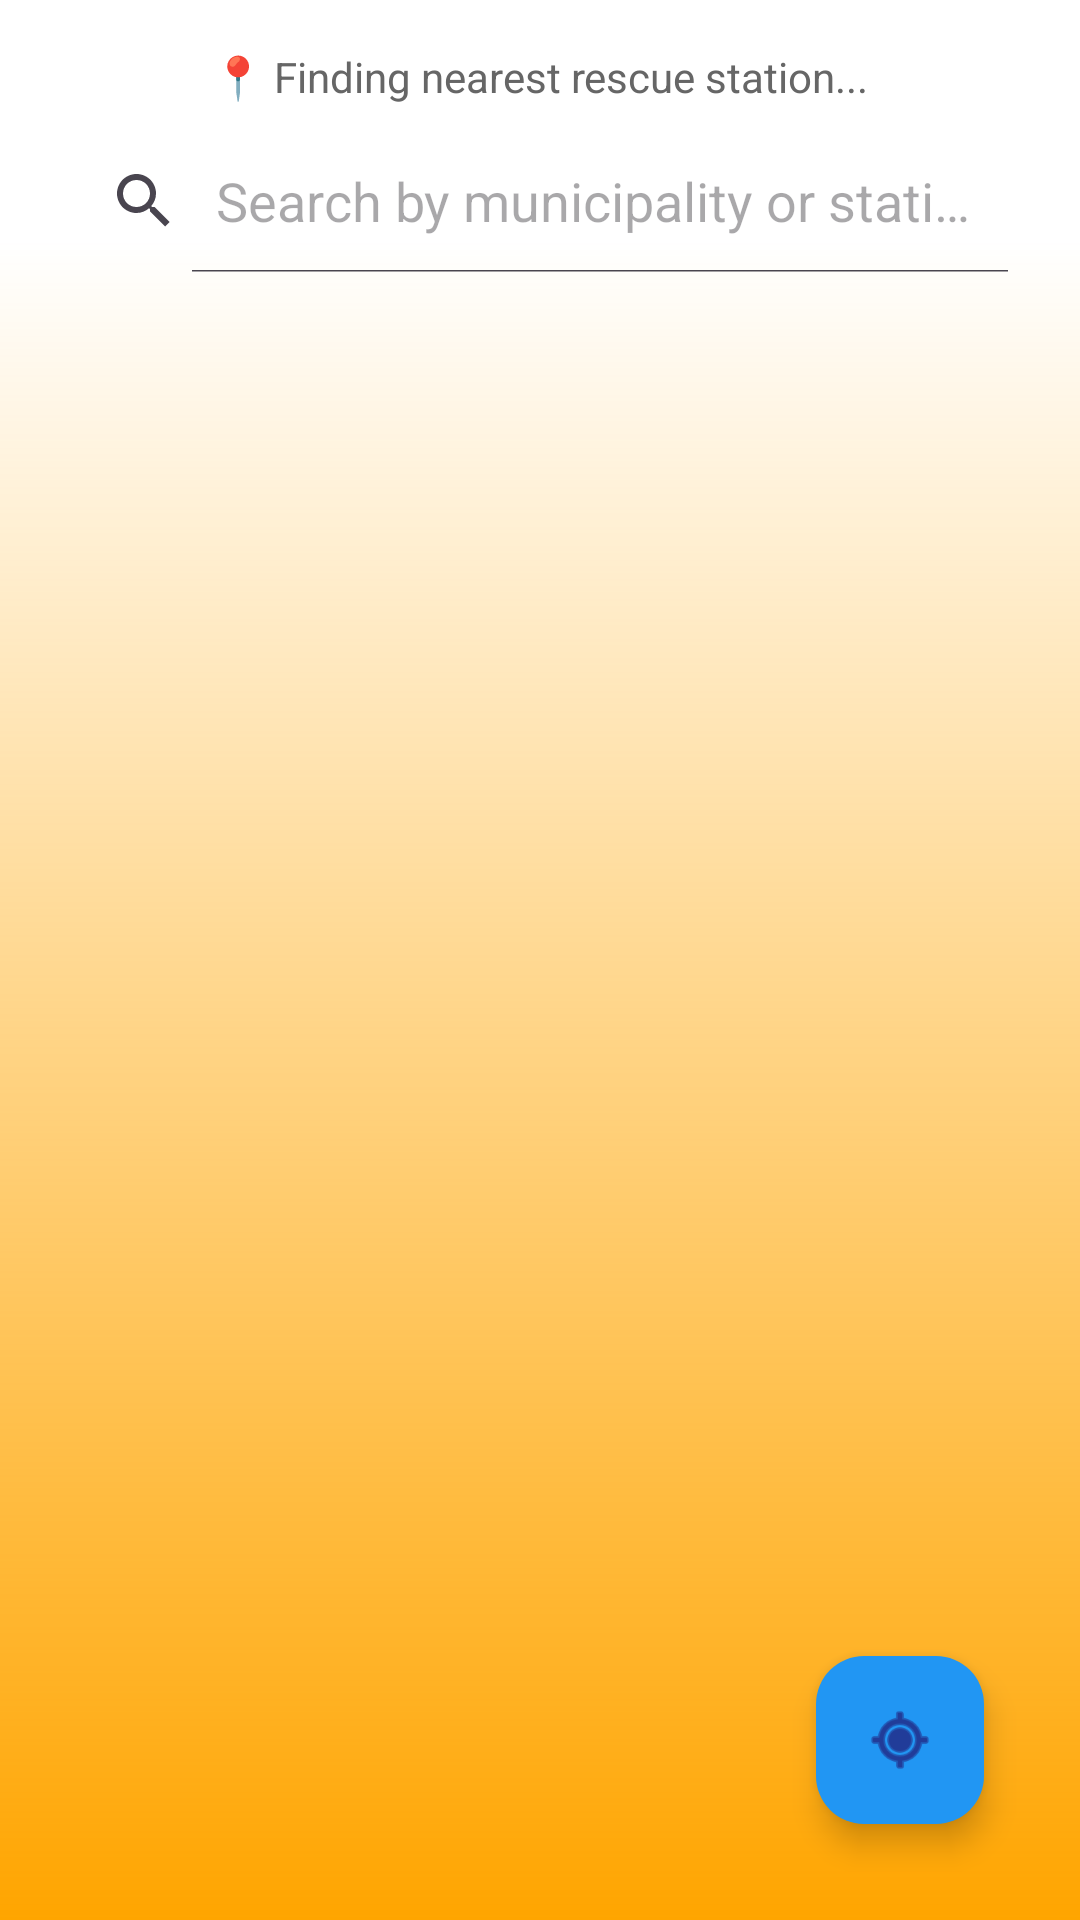

Named icons in this screenshot (1080×1920) and their centers, point (x, y):
Refresh location: point (900, 1740)
